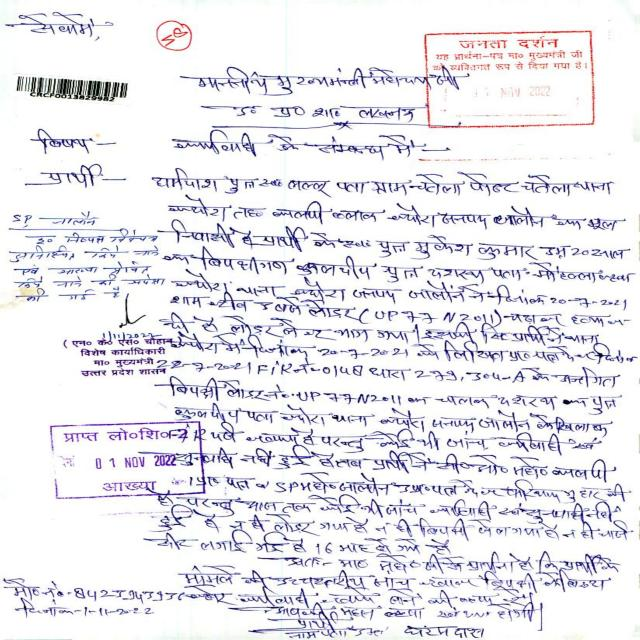antritgovtstamp: (42, 423, 210, 500)
barcode: (16, 69, 131, 104)
jantadarsan: (420, 27, 600, 128)
signnamestamp: (61, 293, 189, 385)
